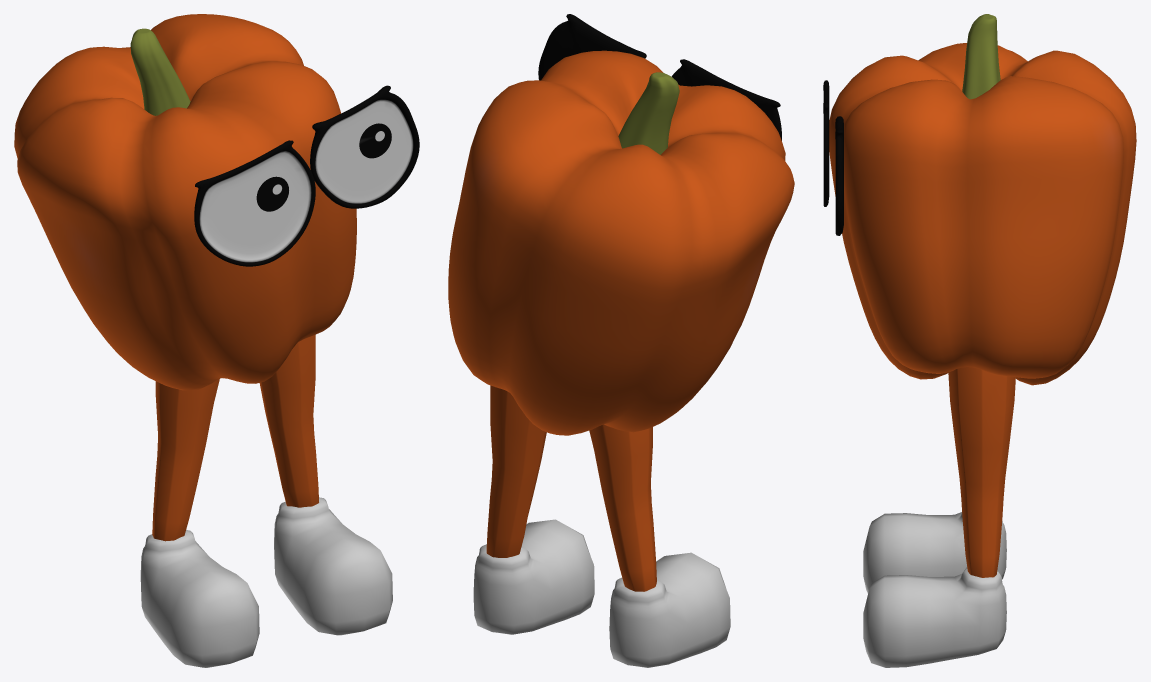
Rendered from doug.glb.
3 views of the same model, side by side, from view 1: azimuth 30°, elevation 25°; view 2: azimuth 150°, elevation 25°; view 3: azimuth 270°, elevation 25° (orthographic). The views are drawn at different scales.
Visible parts, largest first — view 1: pepper, Cube.002, Cube.003, right_eye, left_eye, Cube.001, Cube, stem, left_pupil, right pupil; view 2: pepper, Cube.003, Cube.002, Cube.001, Cube, stem, left_eye, right_eye; view 3: pepper, Cube.002, Cube, Cube.003, stem, left_eye, right_eye.
Boxes of the visible parts, x1=… form: pepper: x1=14, y1=14, x2=356, y2=390; Cube.002: x1=274, y1=497, x2=392, y2=635; Cube.003: x1=140, y1=530, x2=259, y2=667; right_eye: x1=194, y1=140, x2=315, y2=266; left_eye: x1=310, y1=85, x2=419, y2=208; Cube.001: x1=152, y1=378, x2=219, y2=541; Cube: x1=259, y1=334, x2=318, y2=507; stem: x1=130, y1=28, x2=190, y2=115; left_pupil: x1=359, y1=123, x2=391, y2=158; right pupil: x1=256, y1=176, x2=288, y2=211; pepper: x1=448, y1=50, x2=794, y2=435; Cube.003: x1=609, y1=552, x2=730, y2=667; Cube.002: x1=473, y1=519, x2=594, y2=634; Cube.001: x1=589, y1=424, x2=656, y2=591; Cube: x1=486, y1=385, x2=546, y2=557; stem: x1=618, y1=72, x2=679, y2=154; left_eye: x1=538, y1=14, x2=646, y2=80; right_eye: x1=671, y1=59, x2=781, y2=140; pepper: x1=829, y1=43, x2=1136, y2=385; Cube.002: x1=863, y1=567, x2=1006, y2=667; Cube: x1=948, y1=367, x2=1015, y2=577; Cube.003: x1=863, y1=512, x2=1006, y2=593; stem: x1=962, y1=14, x2=1000, y2=99; left_eye: x1=835, y1=116, x2=843, y2=235; right_eye: x1=823, y1=80, x2=829, y2=206.
Size of the model in its own units: 1.77 by 3.33 by 1.67.
